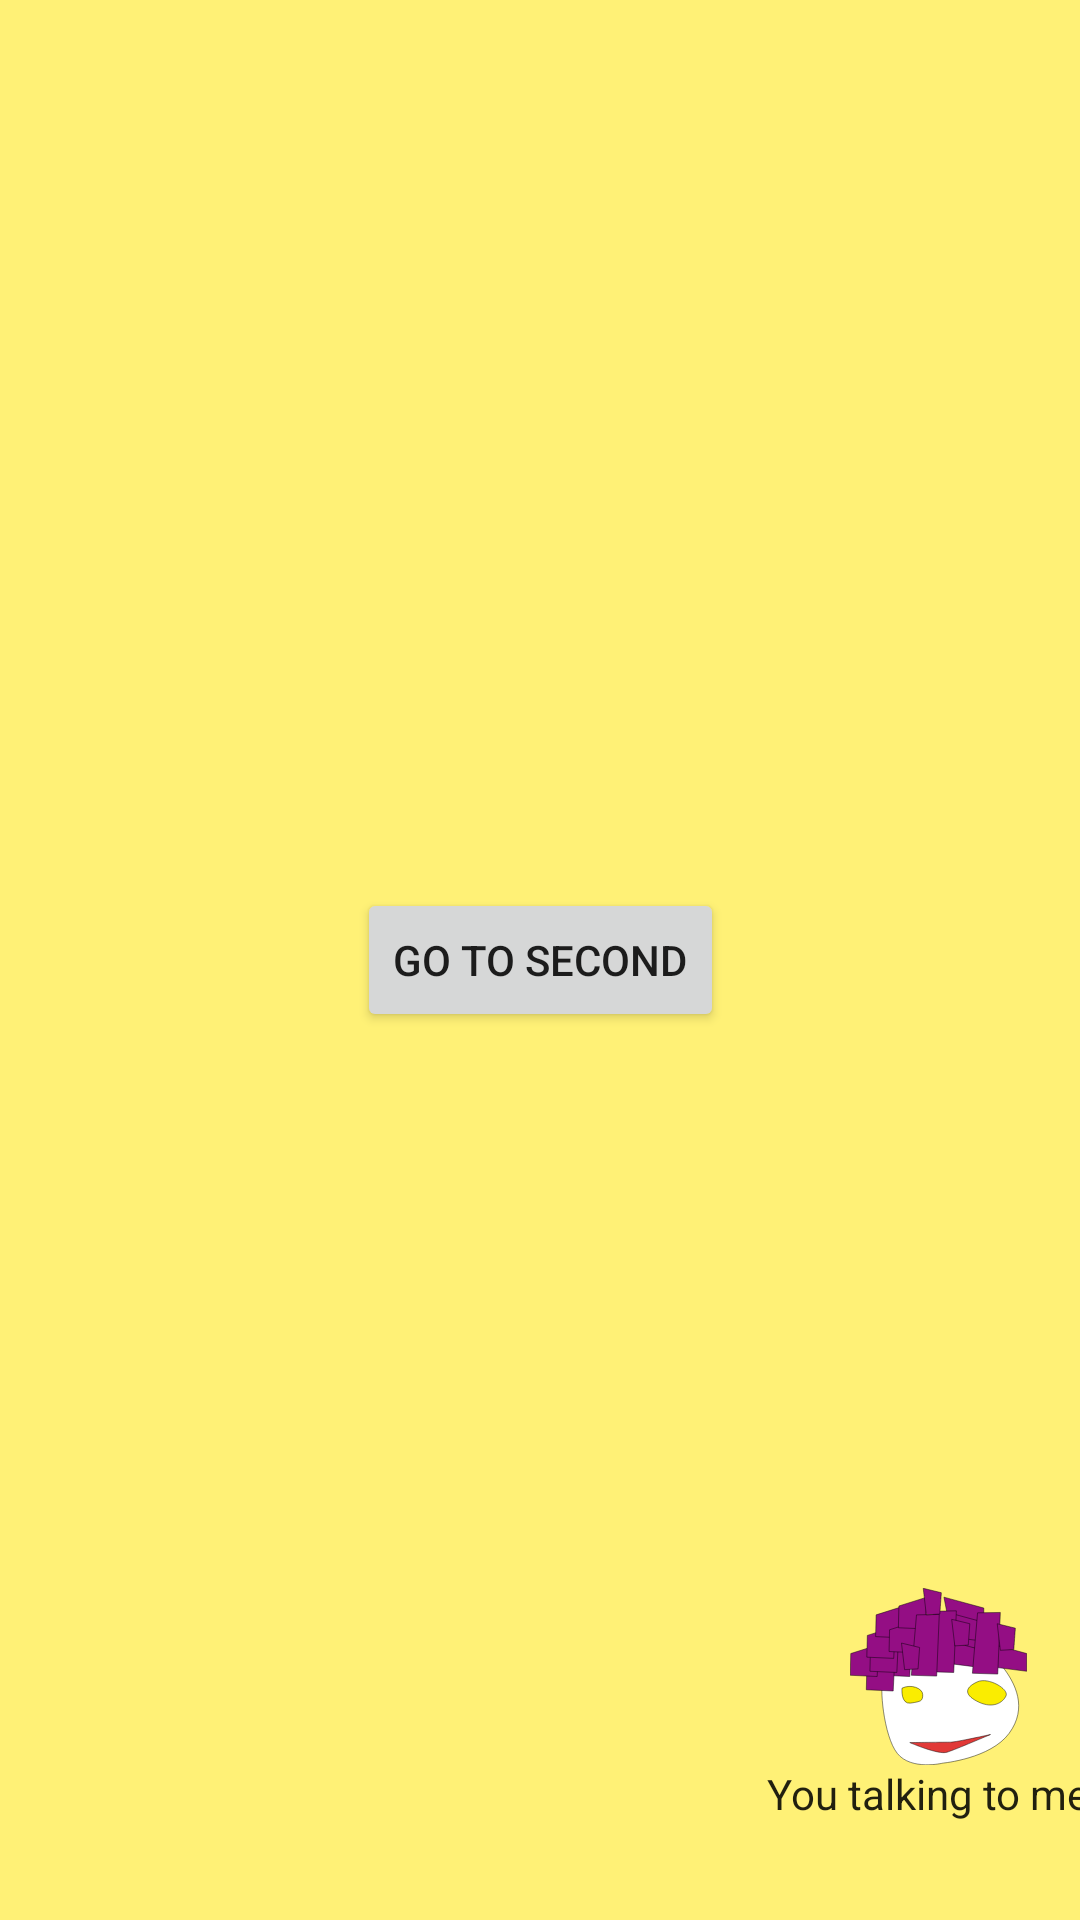

Point at icon controls on the screen. Image size 1080px×1920px, points as point (x, y).
charactor: point (938, 1676)
